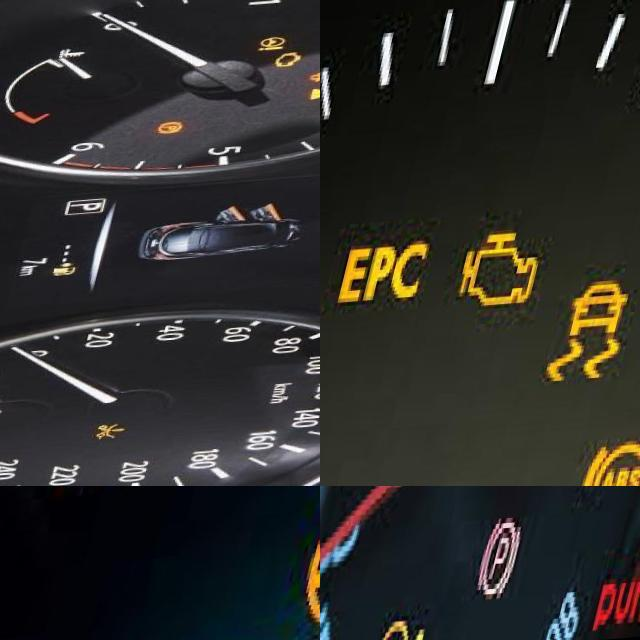Electronic Power Steering: (263, 42, 296, 59)
